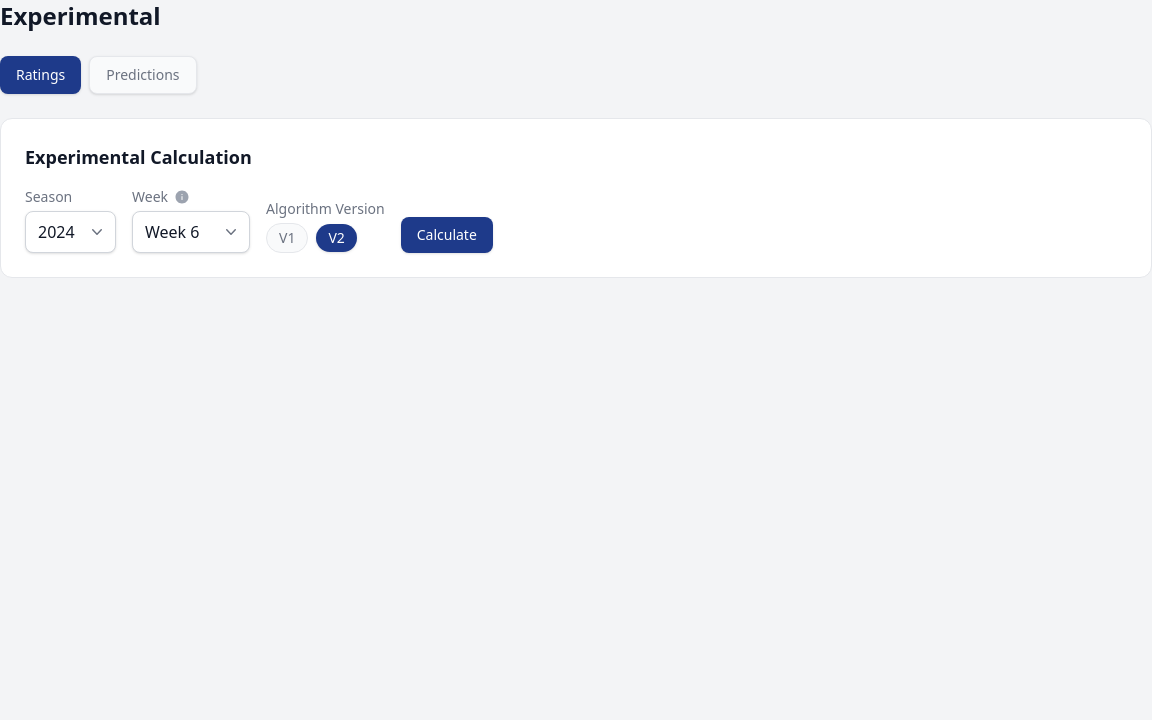
Test: ExperimentalPage › closes the compare season modal without running when Cancel is clicked
What coordinates should you click on to do the following:
click the button "Predictions"
I would click on:
 (143, 75)
Its box is top-left (89, 56), bottom-right (196, 94).
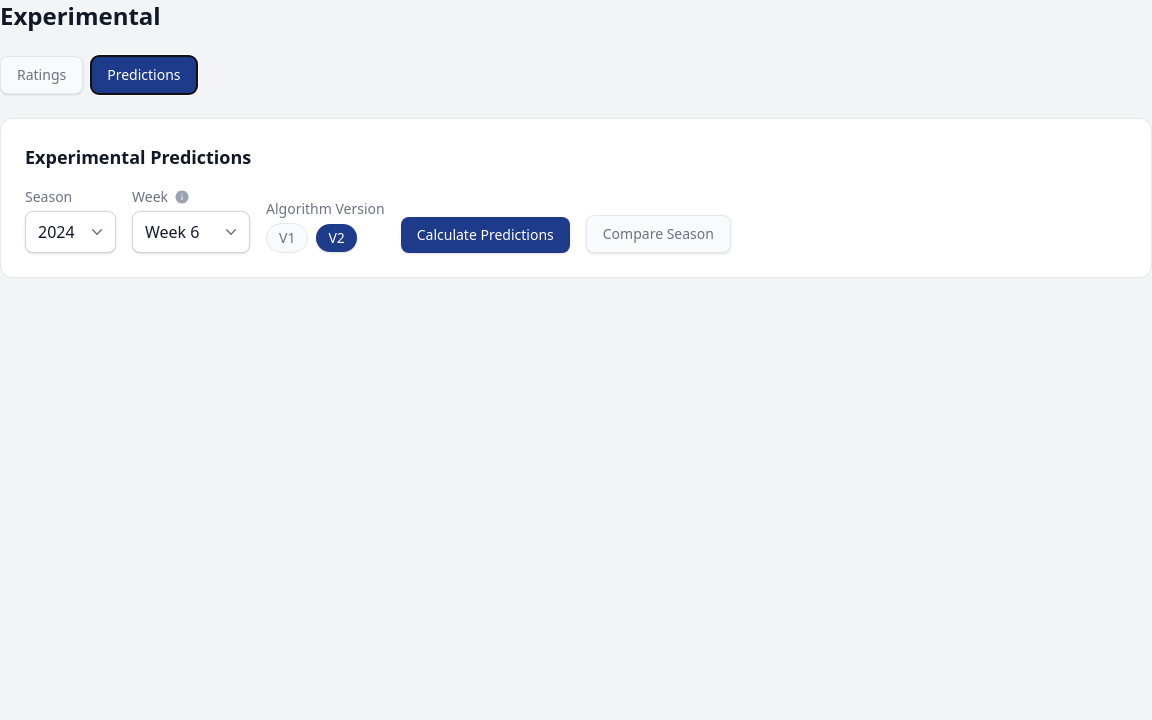
What coordinates should you click on to do the following:
click the button "Compare Season"
I would click on:
 (658, 234)
Its box is top-left (586, 215), bottom-right (731, 253).
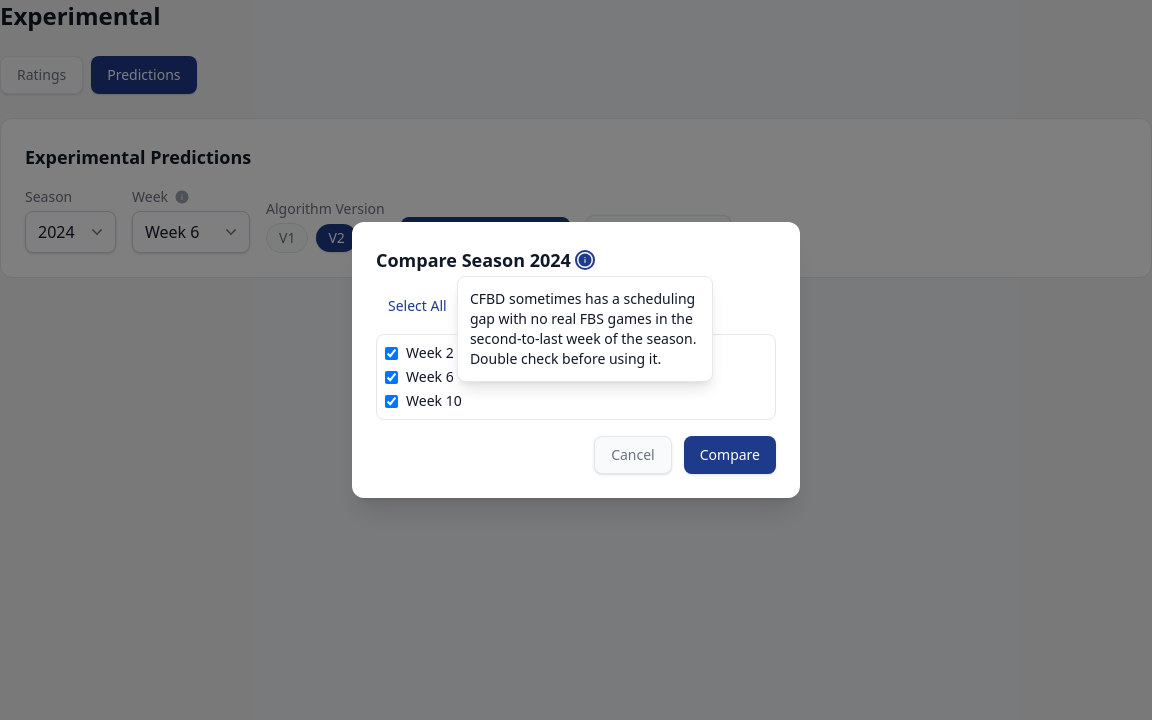
What coordinates should you click on to do the following:
click the button "Cancel"
I would click on:
 (633, 455)
Its box is top-left (594, 436), bottom-right (672, 474).
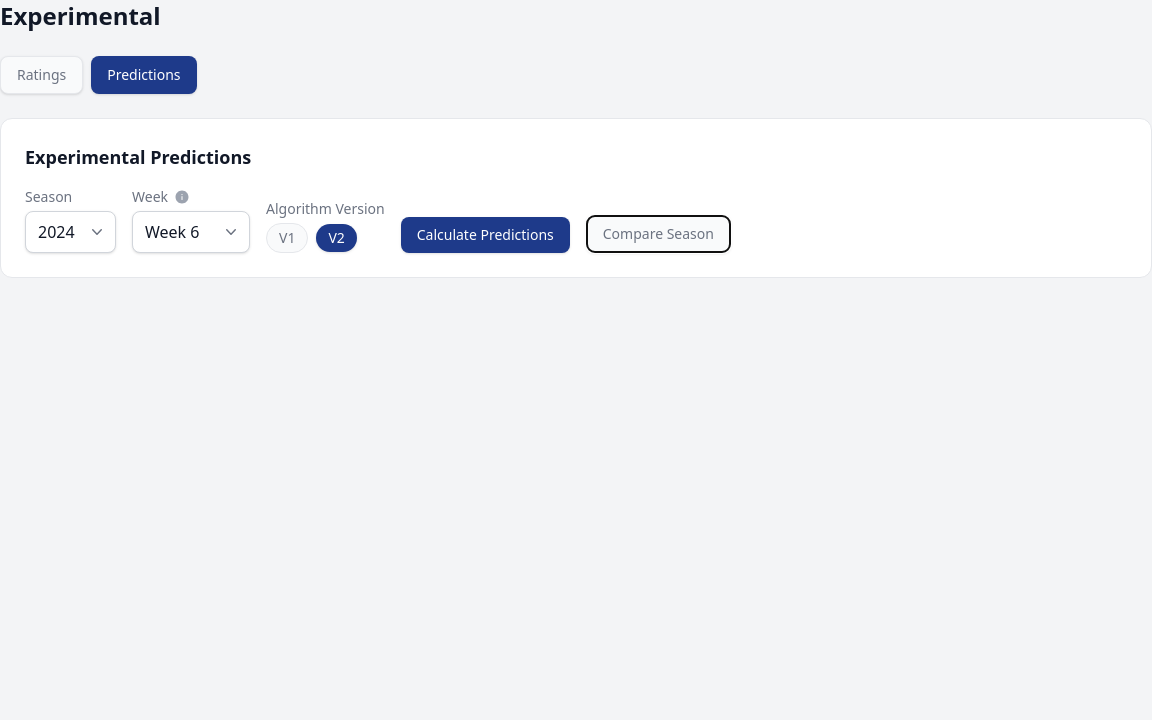
Expected: the dialog is gone
